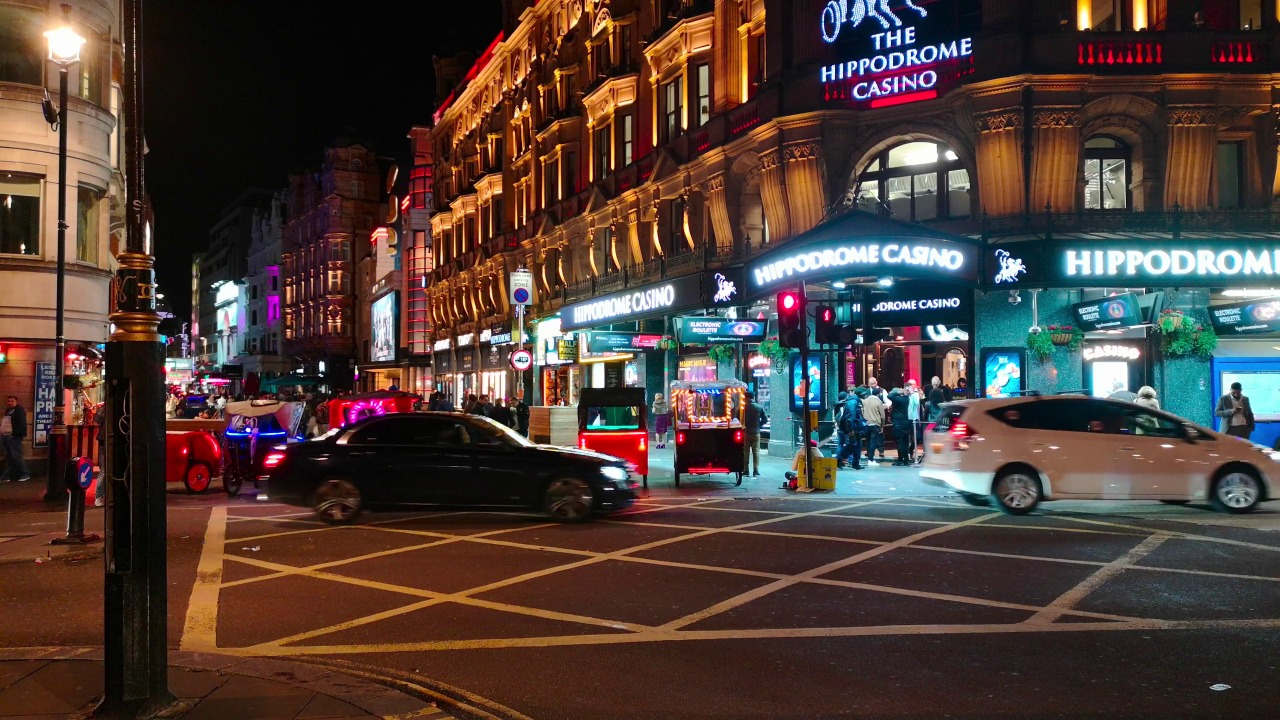car: (270, 418, 646, 532), (932, 400, 1256, 511), (673, 385, 747, 482), (592, 377, 660, 474), (150, 432, 231, 506), (229, 391, 292, 415), (324, 392, 425, 406)
person: (1, 396, 29, 487), (1214, 380, 1252, 430), (790, 438, 823, 489), (890, 390, 910, 467), (848, 385, 861, 468), (752, 394, 763, 483), (867, 389, 879, 469), (654, 393, 668, 451), (828, 386, 843, 431), (475, 399, 522, 410), (1136, 381, 1158, 400), (1106, 381, 1125, 398), (924, 374, 942, 388), (927, 391, 949, 401)
